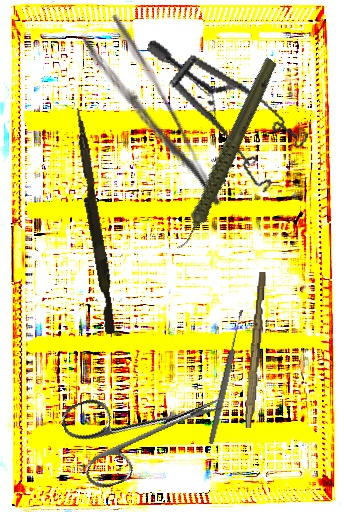Dressing Forceps: (78, 11, 227, 227)
Handpiece: (136, 55, 313, 253)
Iris Scissors: (57, 358, 238, 495)
Pusher: (66, 107, 122, 335)
Scalpel Handle: (244, 271, 268, 429)
Speculum: (120, 37, 322, 202)
Surgical Spoon: (207, 309, 246, 445)
